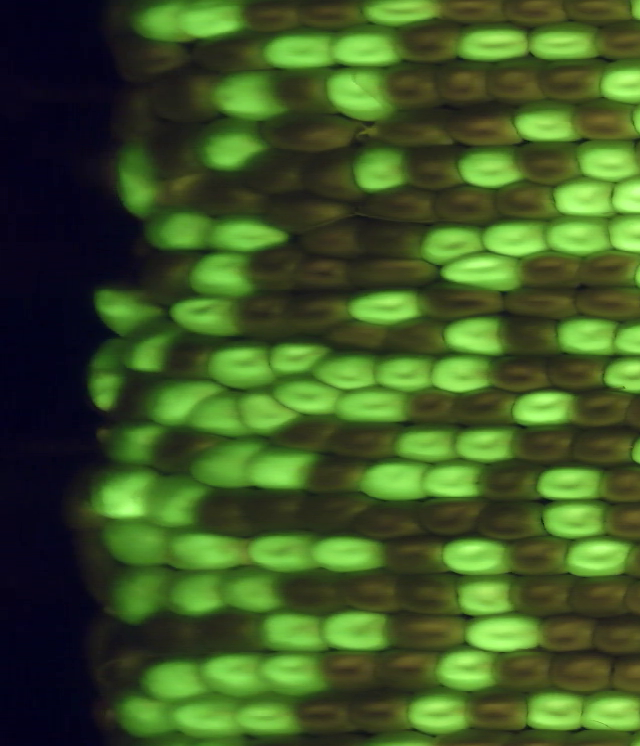fluorescent: (101, 557, 184, 630), (79, 277, 173, 341), (83, 459, 166, 529), (186, 430, 274, 496), (107, 137, 171, 225), (135, 368, 224, 430), (191, 111, 274, 177), (157, 523, 257, 577), (320, 62, 403, 127), (135, 466, 212, 536), (208, 64, 295, 125), (201, 334, 285, 397), (165, 686, 253, 746), (400, 679, 485, 741), (459, 604, 553, 660), (211, 561, 300, 620), (190, 648, 280, 706), (430, 246, 532, 297), (94, 514, 182, 572), (313, 603, 404, 659), (325, 378, 419, 432), (227, 689, 318, 744), (105, 685, 191, 743), (505, 91, 587, 151), (98, 412, 177, 474), (113, 314, 188, 379), (324, 19, 412, 74), (242, 443, 329, 498), (178, 380, 255, 442), (182, 247, 265, 304), (253, 645, 336, 702), (260, 22, 344, 78), (200, 209, 296, 258), (435, 309, 521, 363), (135, 652, 220, 706), (160, 563, 239, 621), (356, 452, 436, 509), (305, 529, 396, 579), (534, 492, 615, 548), (135, 202, 222, 254), (252, 606, 339, 658), (431, 638, 505, 699), (163, 291, 248, 344), (437, 531, 522, 584), (229, 380, 305, 439), (410, 219, 494, 271), (80, 333, 132, 417), (452, 141, 535, 193), (545, 310, 628, 362), (243, 528, 325, 580), (548, 170, 624, 225), (559, 531, 639, 583), (522, 17, 605, 67), (392, 416, 470, 469), (448, 19, 537, 65), (340, 282, 429, 328), (538, 211, 623, 259), (478, 213, 559, 263), (450, 568, 525, 622), (308, 345, 384, 398), (348, 139, 415, 198), (123, 1, 202, 51), (421, 349, 500, 399), (368, 348, 445, 398), (262, 334, 340, 383), (450, 418, 528, 467), (532, 458, 613, 505), (271, 371, 347, 421), (509, 385, 588, 433), (572, 133, 640, 188), (574, 683, 640, 739), (519, 684, 588, 737), (415, 455, 488, 502), (175, 1, 249, 46), (357, 1, 448, 31), (595, 52, 640, 107), (597, 349, 640, 399), (603, 209, 640, 259), (606, 169, 640, 222), (606, 312, 640, 362)
nonfluorescent: (145, 119, 215, 209), (255, 105, 368, 159), (360, 100, 465, 157), (265, 563, 359, 623), (254, 189, 364, 239), (101, 33, 197, 90), (128, 246, 213, 310), (59, 528, 127, 607), (144, 64, 229, 127), (408, 276, 514, 326), (376, 607, 477, 659), (439, 99, 535, 153), (390, 567, 475, 627), (184, 168, 275, 223), (181, 29, 279, 80), (189, 605, 275, 663), (339, 250, 446, 296), (141, 424, 230, 479), (129, 606, 212, 664), (353, 179, 447, 230), (290, 486, 377, 541), (185, 480, 262, 542), (375, 530, 460, 586), (376, 311, 463, 365), (297, 144, 369, 209), (491, 306, 572, 363), (460, 683, 541, 740), (377, 55, 451, 117), (533, 53, 616, 108), (314, 642, 390, 702), (79, 610, 136, 690), (425, 177, 511, 230), (346, 213, 432, 266), (100, 77, 167, 145), (267, 64, 348, 120), (387, 14, 466, 71), (365, 645, 448, 699), (322, 416, 411, 466), (476, 350, 563, 401), (471, 497, 558, 548), (278, 288, 360, 342), (343, 683, 422, 739), (471, 454, 551, 509), (444, 382, 527, 435), (499, 570, 582, 623), (289, 212, 370, 266), (265, 406, 348, 458), (235, 146, 312, 202), (562, 569, 640, 624), (497, 532, 579, 584), (509, 245, 596, 294), (244, 481, 317, 539), (412, 492, 495, 543), (508, 134, 589, 186), (480, 53, 555, 109), (395, 139, 470, 195), (227, 291, 302, 347), (348, 495, 431, 545), (430, 53, 498, 114), (485, 645, 560, 700), (288, 688, 368, 739), (331, 564, 407, 617), (563, 421, 640, 473), (487, 177, 567, 227), (544, 646, 618, 700), (52, 474, 113, 539), (566, 94, 640, 147), (154, 330, 225, 385), (235, 243, 311, 294), (103, 367, 165, 429), (560, 385, 639, 433), (296, 451, 375, 499), (542, 348, 615, 399), (504, 420, 578, 470), (500, 282, 586, 325), (397, 383, 468, 434), (568, 279, 640, 329), (535, 609, 604, 660), (288, 251, 360, 298), (319, 317, 399, 357), (571, 247, 640, 293), (585, 609, 640, 662), (587, 12, 640, 66), (80, 692, 137, 741), (292, 1, 374, 35), (241, 1, 313, 38), (431, 1, 515, 29), (592, 458, 640, 507), (95, 1, 143, 49), (560, 1, 638, 29), (497, 1, 574, 29), (601, 498, 640, 546), (92, 143, 123, 202), (605, 649, 640, 699)
